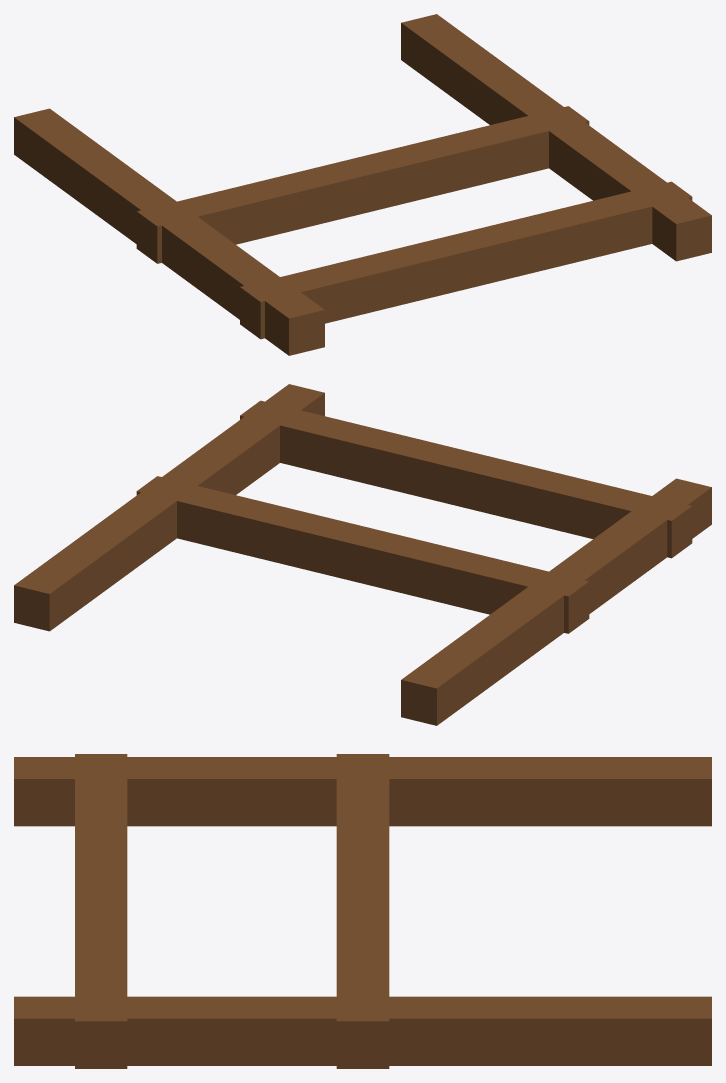
Rendered from SM_LorienBasketRack.obj.
3 renders of one model, top to bottom at view 1: azimuth 30°, elevation 25°; view 2: azimuth 150°, elevation 25°; view 3: azimuth 270°, elevation 25°, orthographic. The views are drawn at different scales.
Parts seen in each view (by area): view 1: SM_LorienBasketRack; view 2: SM_LorienBasketRack; view 3: SM_LorienBasketRack.
Part boxes in pixels (x1,y1,x2,y2): SM_LorienBasketRack: [14, 14, 711, 355]; SM_LorienBasketRack: [14, 384, 711, 725]; SM_LorienBasketRack: [14, 754, 711, 1068].
Bounding box in the file's own units: 145 × 12 × 160.
